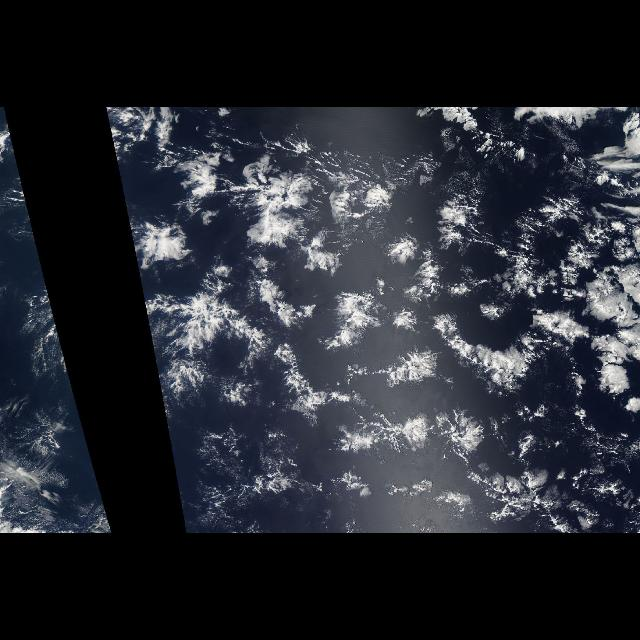Flower: (112, 132, 638, 500)
